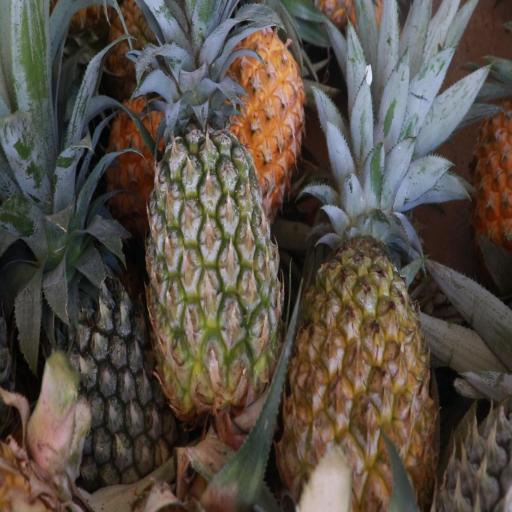------------------------------: (147, 118, 277, 408)
Pineapple - v8 v1: (280, 179, 430, 512), (142, 11, 302, 172)
